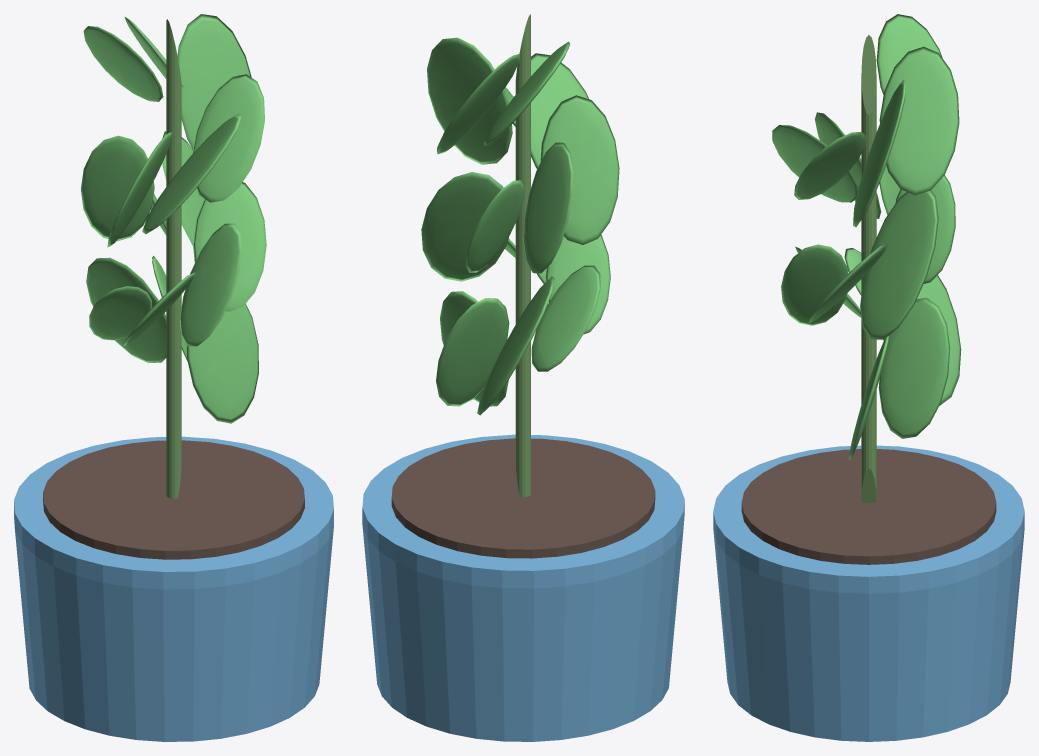
The picture shows the model from 3 angles, left to right: view 1: azimuth 30°, elevation 25°; view 2: azimuth 150°, elevation 25°; view 3: azimuth 270°, elevation 25°; orthographic projection. The views are drawn at different scales.
Bounding box in the file's own units: 0.33 × 0.7533 × 0.33.
